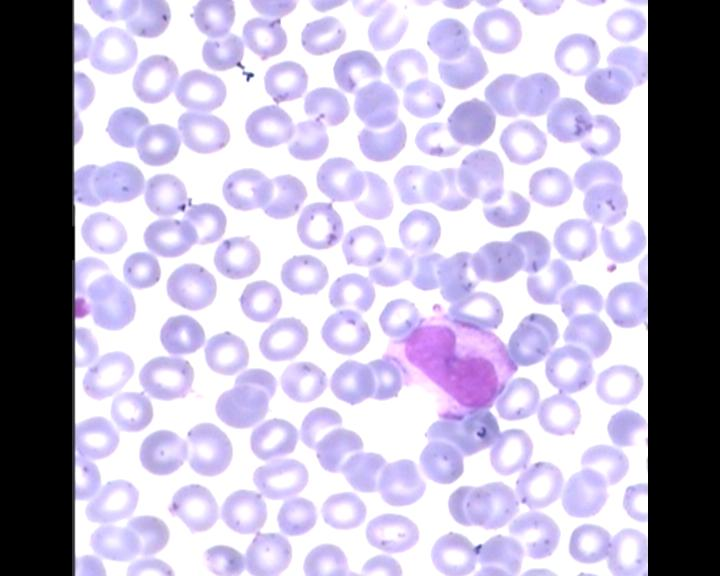mono: (379, 306, 516, 425)
